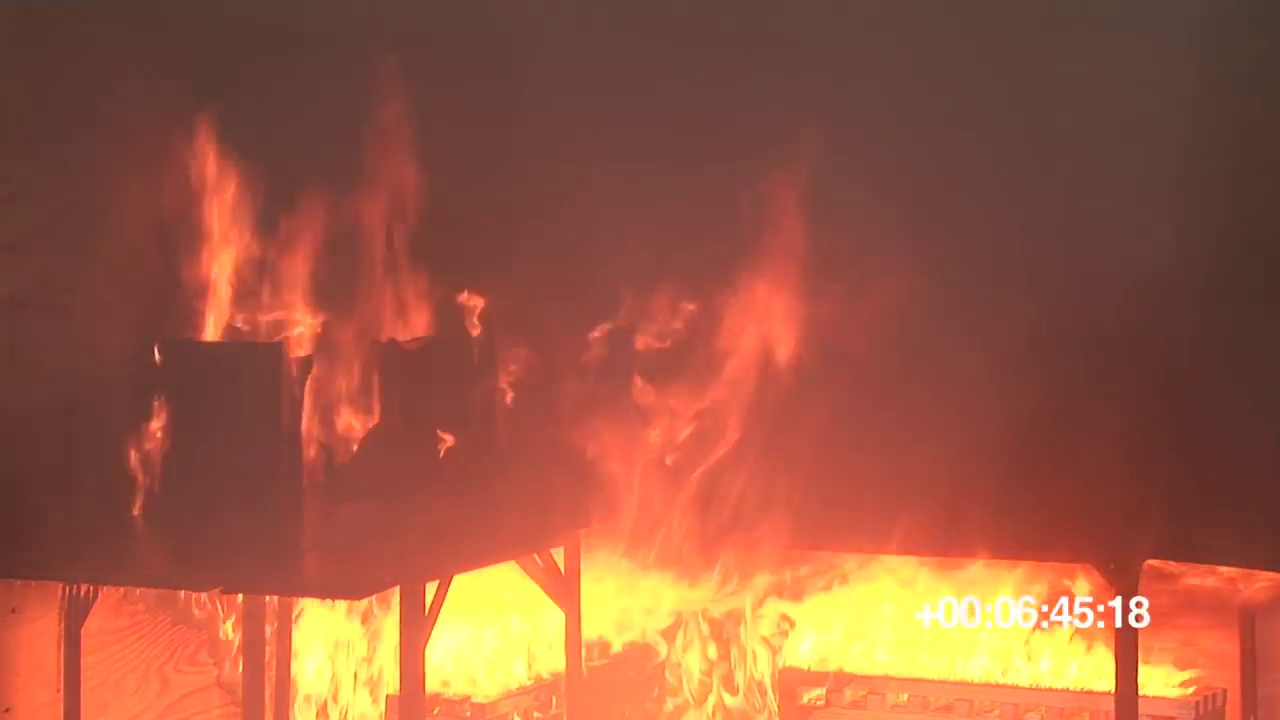fire: (279, 568, 1195, 715), (130, 399, 158, 488)
